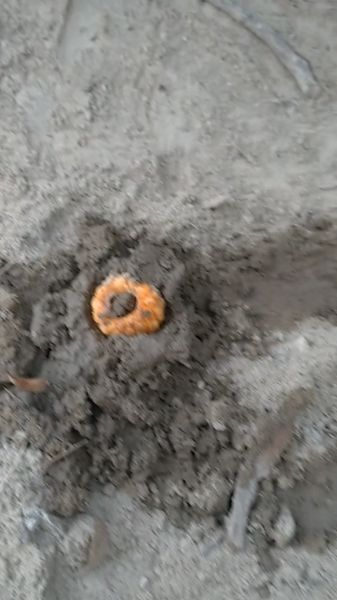eggs: (83, 268, 170, 348)
